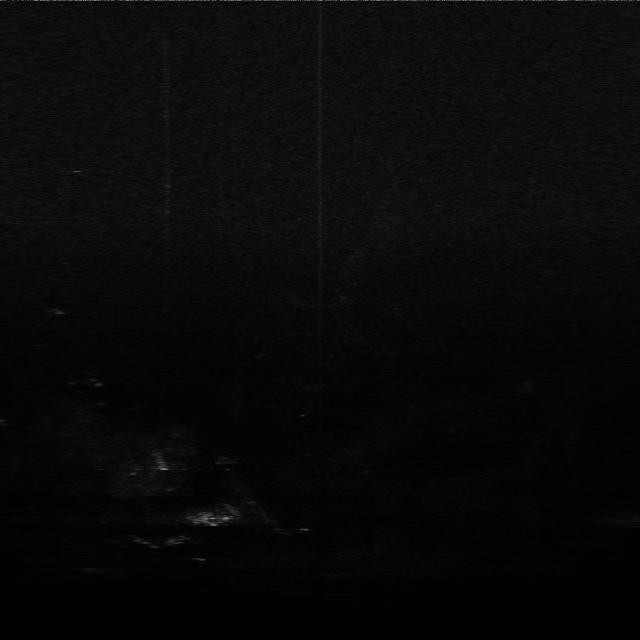rov: (187, 509, 238, 531)
